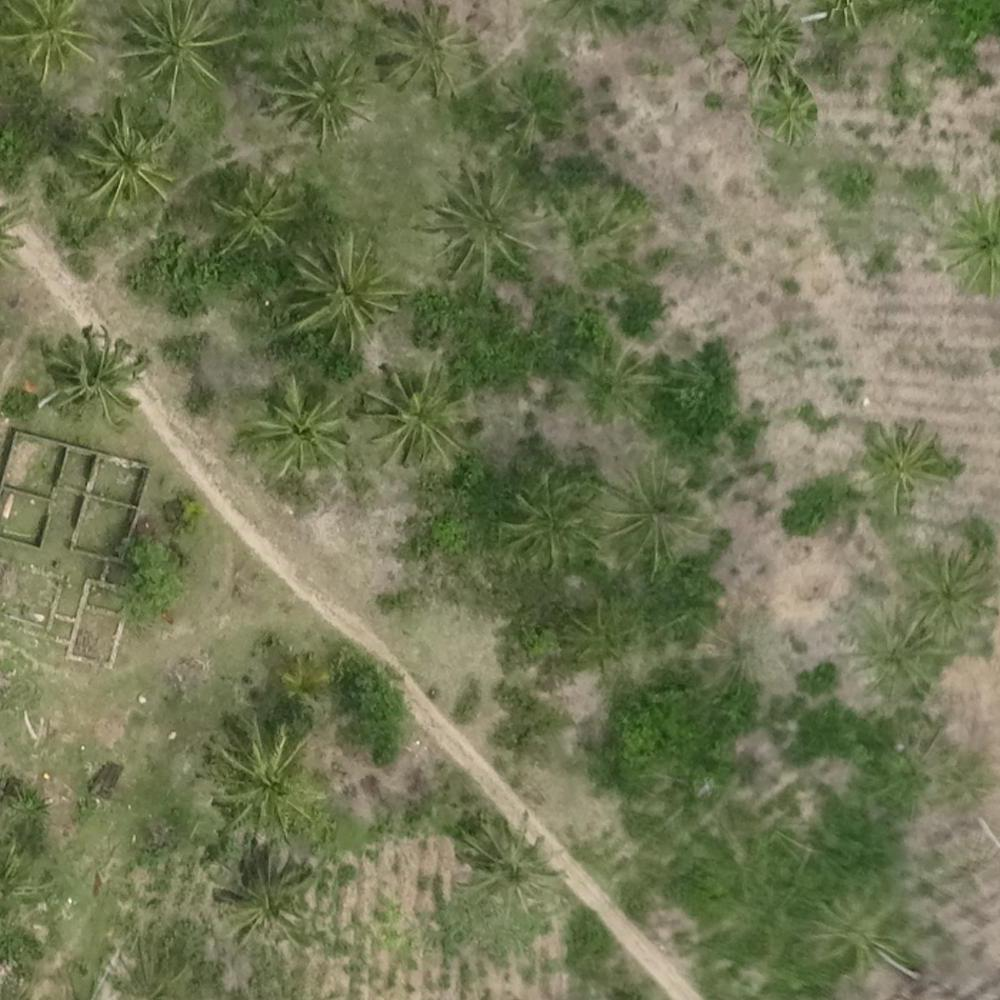Palm: (117, 2, 236, 102), (212, 718, 318, 830), (284, 242, 393, 341), (264, 46, 368, 143), (70, 112, 175, 207), (425, 175, 530, 269), (367, 366, 463, 461), (383, 8, 483, 98), (42, 329, 141, 413), (219, 849, 311, 935), (248, 380, 342, 463), (1, 1, 100, 79), (504, 477, 593, 563), (458, 823, 548, 906), (211, 168, 300, 251), (905, 543, 988, 629), (864, 421, 948, 504), (754, 75, 819, 140), (736, 8, 799, 67)
